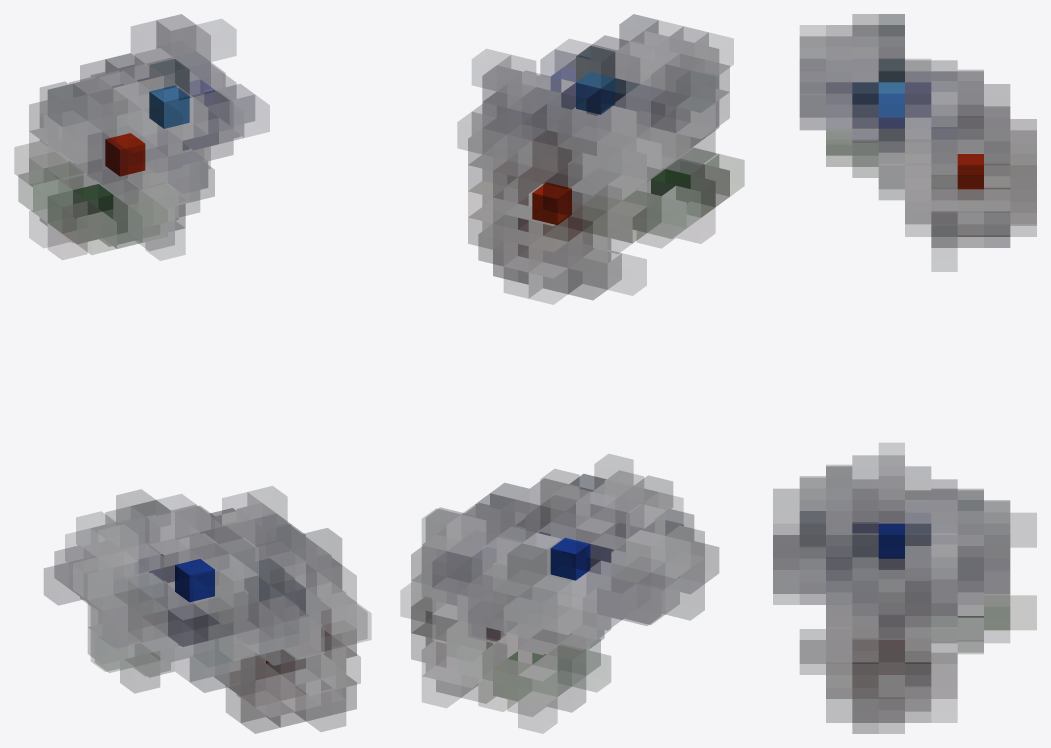
The model's file is iter_10.obj.
The picture shows the model from 3 angles, left to right: view 1: azimuth 30°, elevation 25°; view 2: azimuth 150°, elevation 25°; view 3: azimuth 270°, elevation 25°; orthographic projection. The views are drawn at different scales.
Visible parts, largest first — view 1: iter_10; view 2: iter_10; view 3: iter_10.
Part boxes in pixels (x1=…): iter_10: x1=15, y1=14, x2=370, y2=733; iter_10: x1=401, y1=14, x2=744, y2=733; iter_10: x1=773, y1=14, x2=1036, y2=733.
Size of the model in its own units: 1.2 by 2.5 by 1.
